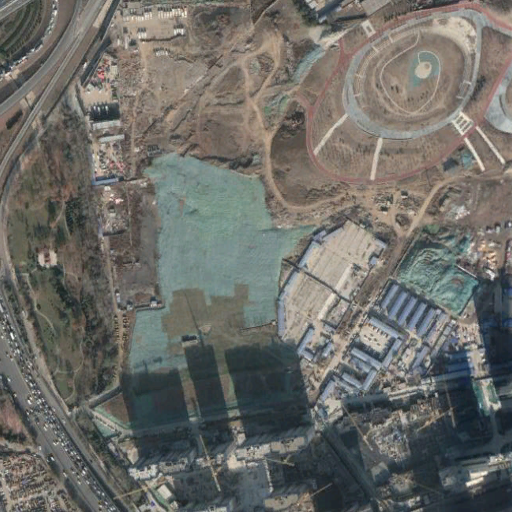cw: (93, 155, 317, 440), (394, 200, 512, 331)
